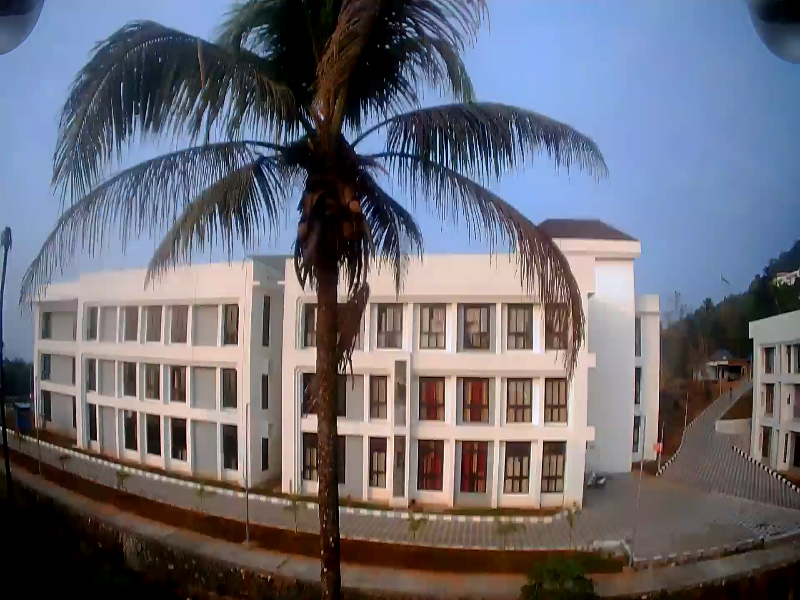coconut: (350, 202, 362, 215), (295, 223, 307, 236)
